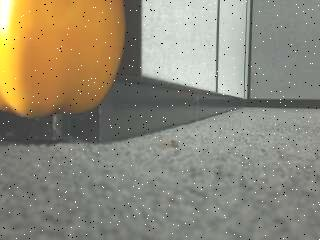Capsicum: (0, 0, 128, 120)
